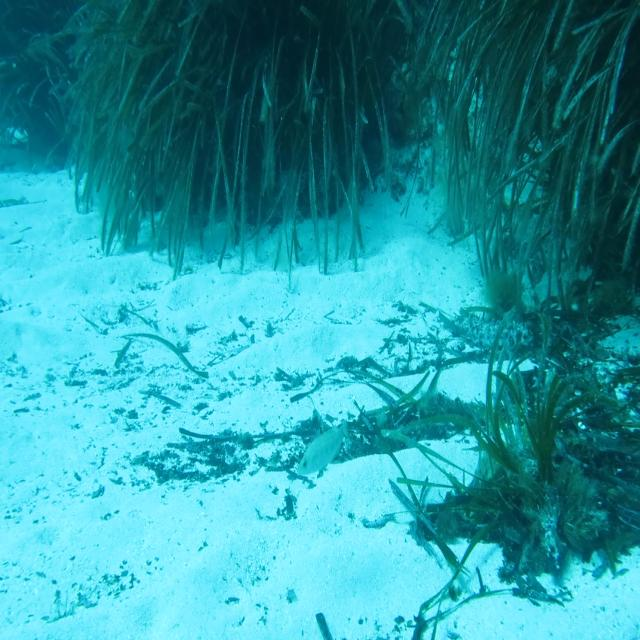BN: (296, 418, 349, 478)
vegetation: (61, 0, 407, 249), (413, 0, 640, 237), (465, 366, 640, 534)
